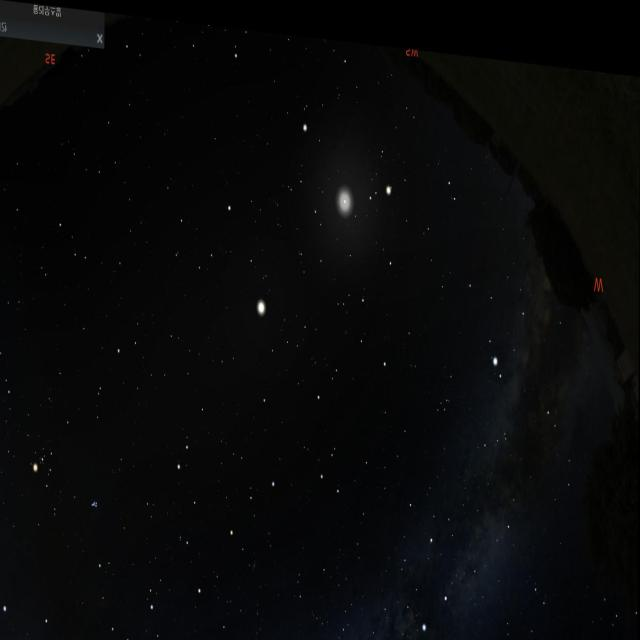cygnus: (418, 490, 518, 640)
lyra: (523, 561, 560, 640)
moon: (327, 149, 363, 229)
pleiades: (85, 479, 103, 519)
taurus: (24, 408, 106, 535)
